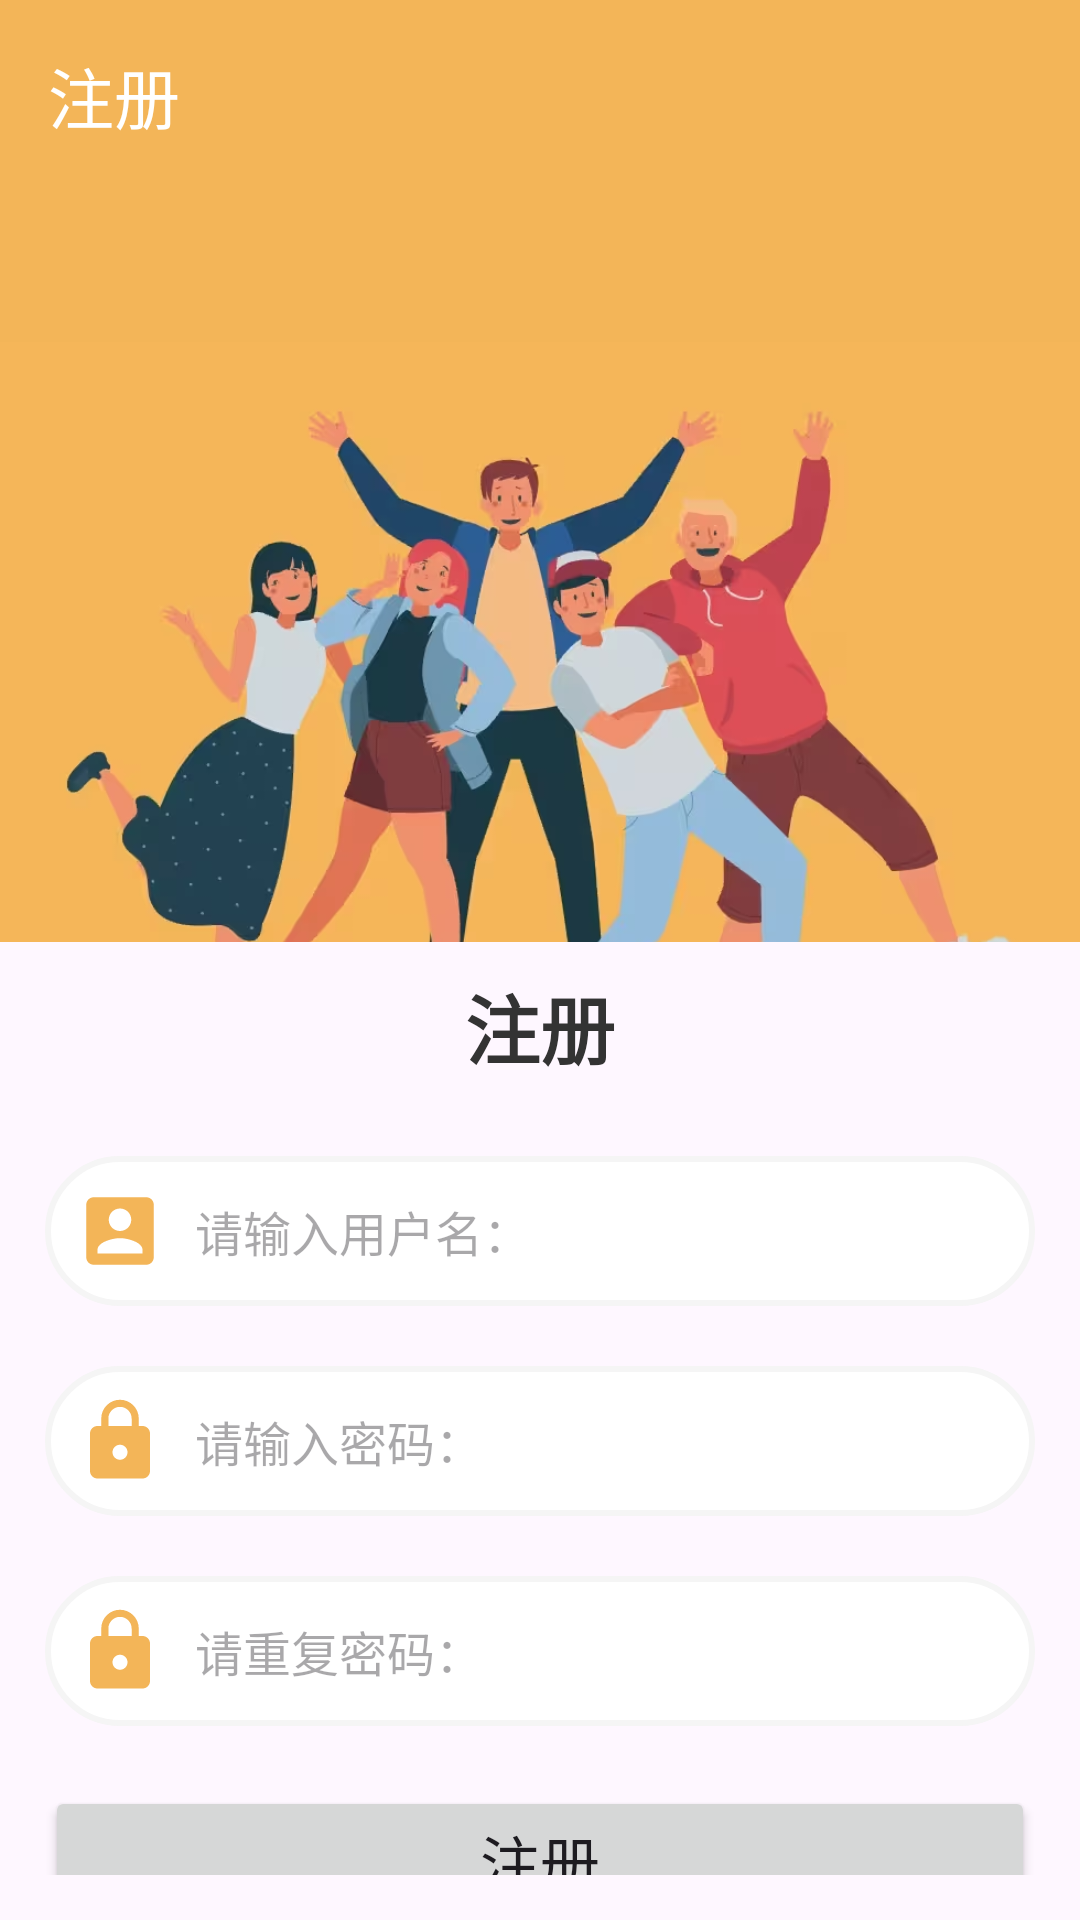

Point at icon controls on the screen. Image size 1080*1920, points as [x,y].
login account: [120,1231]
login password: [120,1439], [120,1649]
